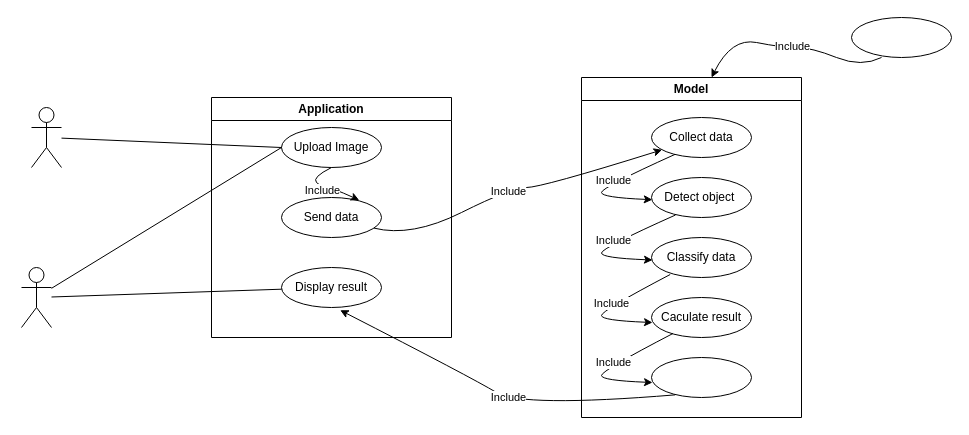
Some shapes in this 969 by 435 pixel diagram are drawn without their labels. The shapes that lost their labels are listed below. From the top down, each one's centre as x and y in pixels, then its label:
the point at 901,37: Train model
the point at 46,137: Camera
the point at 36,297: Worker
the point at 701,377: Sending result
